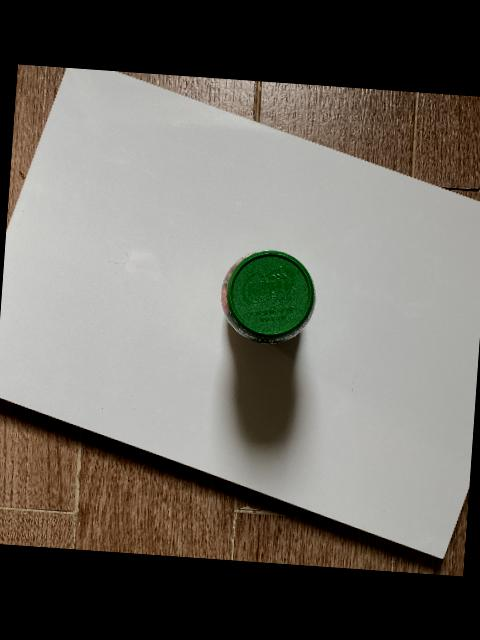milo: (218, 249, 314, 343)
